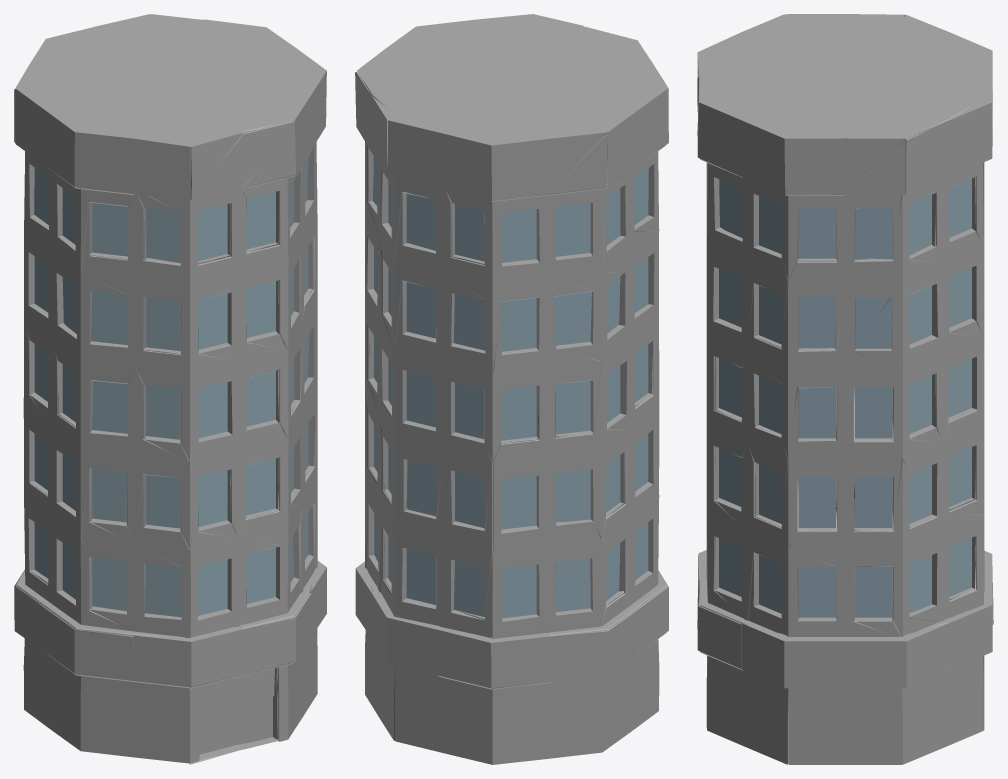
Rendered from building3.fbx.
3 renders of one model, left to right at view 1: azimuth 30°, elevation 25°; view 2: azimuth 150°, elevation 25°; view 3: azimuth 270°, elevation 25°, orthographic.
Visible parts, largest first — view 1: building3_shatter36, building3_shatter47, building3_shatter56, building3_shatter23, building3_shatter28, building3_shatter7, building3_shatter26, building3_shatter46, building3_shatter64, building3_shatter40, building3_shatter6, building3_shatter48 (+41 smaller); view 2: building3_shatter36, building3_shatter2, building3_shatter60, building3_shatter84, building3_shatter54, building3_shatter8, building3_shatter19, building3_shatter28, building3_shatter14, building3_shatter4, building3_shatter29, building3_shatter30 (+36 smaller); view 3: building3_shatter36, building3_shatter43, building3_shatter22, building3_shatter1, building3_shatter9, building3_shatter3, building3_shatter34, building3_shatter37, building3_shatter11, building3_shatter45, building3_shatter13, building3_shatter20 (+32 smaller).
Boxes of the visible parts, x1,y1,x2,y2 form: building3_shatter36: (26,17,326,187); building3_shatter47: (15,86,242,199); building3_shatter56: (133,563,311,686); building3_shatter23: (133,121,294,372); building3_shatter28: (23,638,135,757); building3_shatter7: (52,361,188,544); building3_shatter26: (135,302,239,461); building3_shatter46: (198,189,287,449); building3_shatter64: (81,194,143,436); building3_shatter40: (135,474,238,637); building3_shatter6: (239,438,309,629); building3_shatter48: (133,675,242,763); building3_shatter36: (357,14,656,127); building3_shatter2: (382,93,606,201); building3_shatter60: (395,676,593,764); building3_shatter84: (379,609,638,740); building3_shatter54: (452,462,601,639); building3_shatter8: (443,193,549,373); building3_shatter19: (493,361,630,544); building3_shatter28: (547,633,665,758); building3_shatter14: (493,279,601,456); building3_shatter4: (395,451,492,637); building3_shatter29: (443,293,539,462); building3_shatter30: (379,350,443,507); building3_shatter36: (697,18,981,194); building3_shatter43: (789,656,983,764); building3_shatter22: (741,623,949,688); building3_shatter1: (747,279,901,459); building3_shatter9: (789,195,943,369); building3_shatter3: (845,443,983,636); building3_shatter34: (789,460,894,636); building3_shatter37: (753,375,892,636); building3_shatter11: (905,99,991,262); building3_shatter45: (700,651,788,764); building3_shatter13: (855,264,943,459); building3_shatter20: (707,179,787,351).
Bounding box in the file's own units: 12.02 × 28.36 × 12.02.
